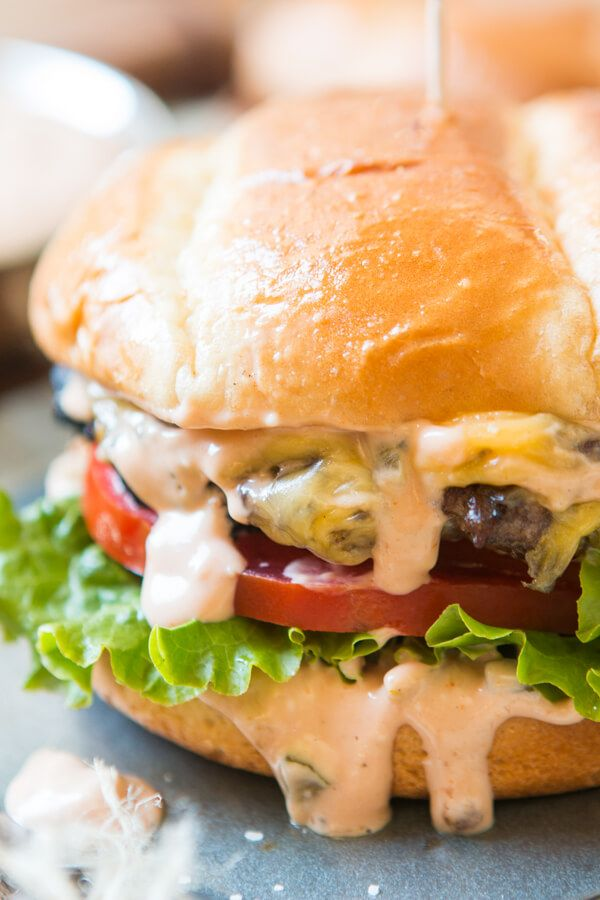hamburger: (26, 73, 600, 807)
